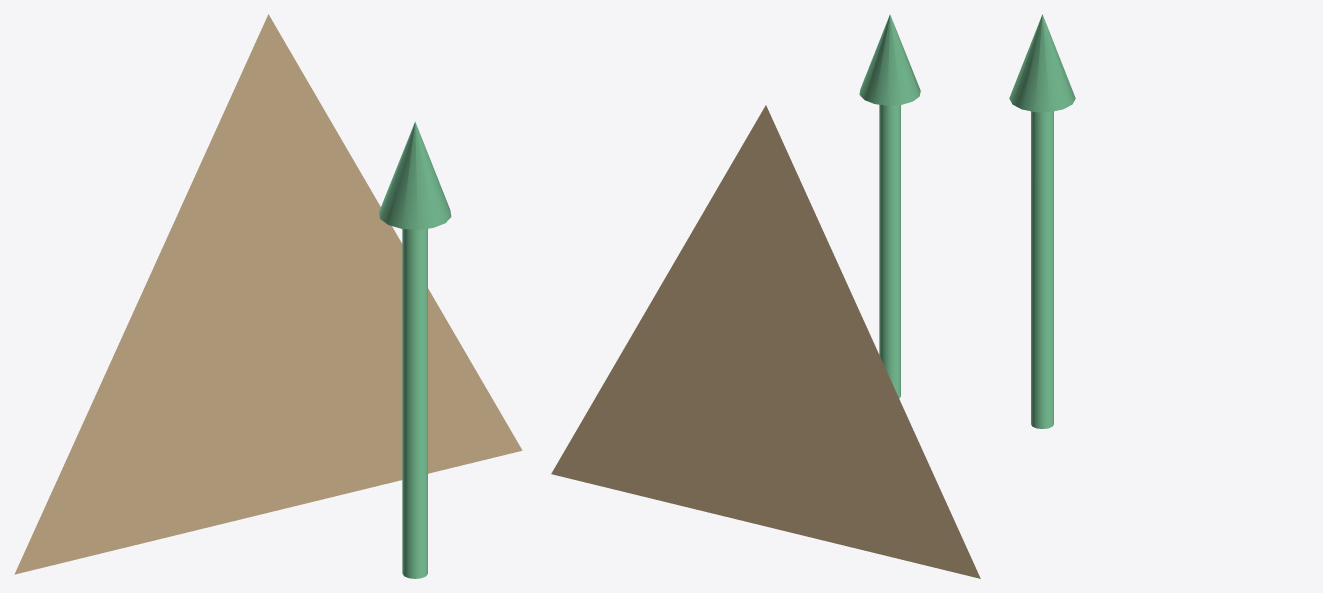
3 renders of one model, left to right at view 1: azimuth 30°, elevation 25°; view 2: azimuth 150°, elevation 25°; view 3: azimuth 270°, elevation 25°, orthographic. The views are drawn at different scales.
Parts seen in each view (by area): view 1: pyramid, pyramid_height; view 2: pyramid, pyramid_height; view 3: pyramid_height.
Part boxes in pixels (left/top/right/bottom): pyramid: left=14, top=14, right=522, bottom=574; pyramid_height: left=379, top=122, right=451, bottom=578; pyramid: left=551, top=105, right=980, bottom=578; pyramid_height: left=859, top=14, right=920, bottom=398; pyramid_height: left=1009, top=14, right=1075, bottom=428.
Size of the model in its own units: 1.35 by 1.27 by 0.7593.
